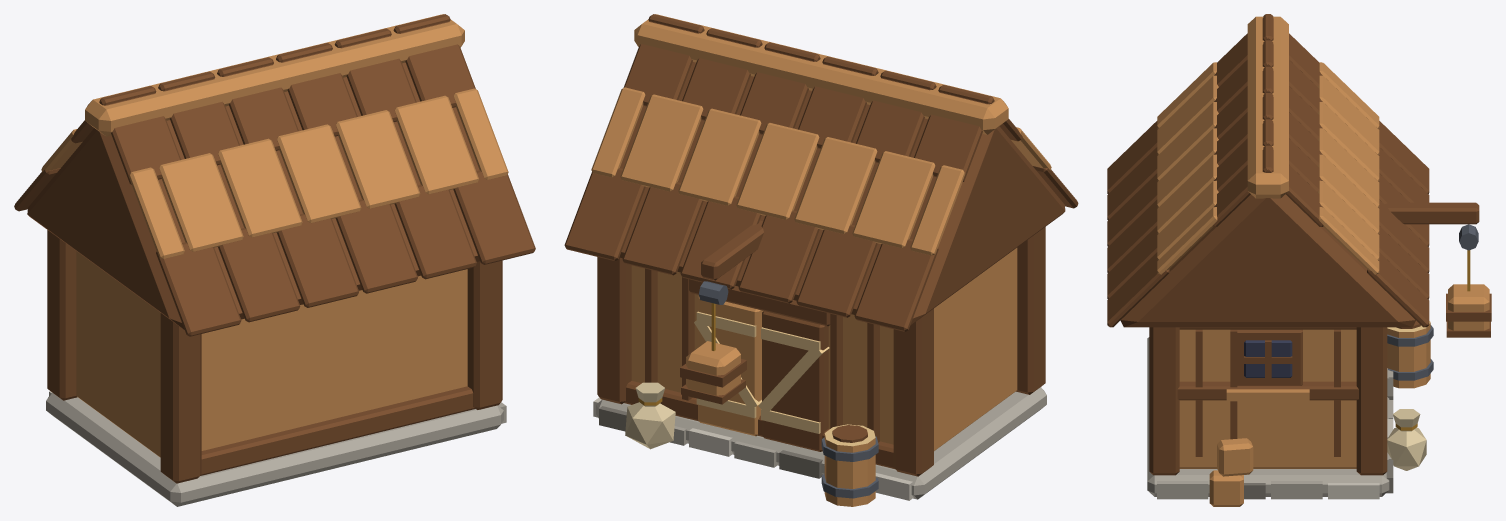
Rendered from warehouse_l1.fbx.
3 renders of one model, left to right at view 1: azimuth 30°, elevation 25°; view 2: azimuth 150°, elevation 25°; view 3: azimuth 270°, elevation 25°, orthographic. The views are drawn at different scales.
Parts seen in each view (by area): view 1: warehouse_l1; view 2: warehouse_l1, Hoist; view 3: warehouse_l1, Hoist.
Part boxes in pixels (<box>): warehouse_l1: <box>14,14,535,506</box>; warehouse_l1: <box>564,14,1078,506</box>; Hoist: <box>680,303,746,404</box>; warehouse_l1: <box>1107,14,1479,506</box>; Hoist: <box>1446,250,1491,337</box>.
Bounding box in the file's own units: 0.6817 × 0.6445 × 0.6669.
